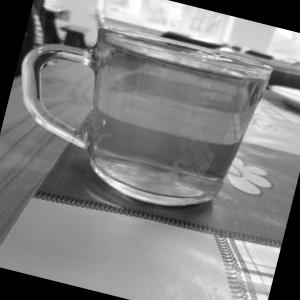tea: (42, 0, 298, 253)
